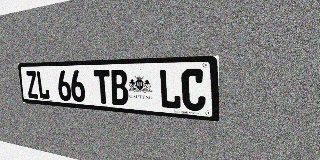6: (69, 70, 86, 102), (56, 70, 72, 101)
B: (110, 70, 129, 106)
C: (181, 69, 206, 112)
L: (158, 69, 181, 110), (36, 71, 50, 100)
T: (93, 70, 112, 104)
Z: (25, 71, 39, 99)
